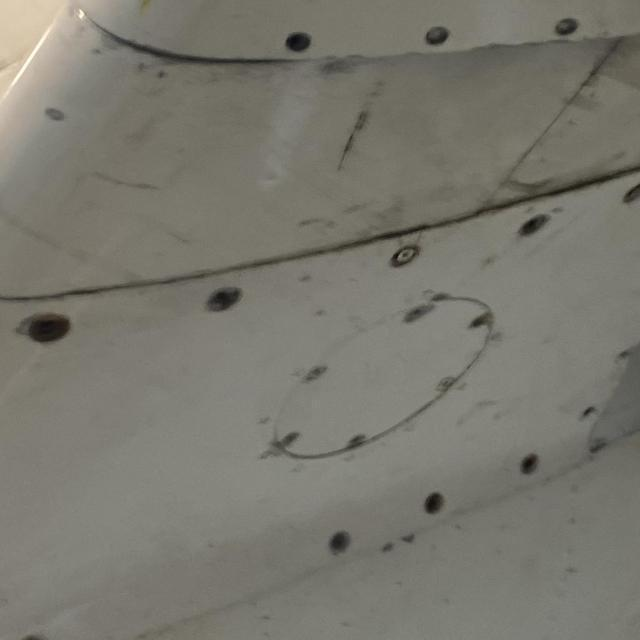Missing-head: (22, 313, 69, 344), (204, 287, 241, 312), (517, 215, 550, 236), (422, 24, 450, 46), (283, 31, 310, 52), (328, 532, 351, 556), (422, 493, 445, 515), (555, 16, 580, 36), (519, 454, 540, 475), (622, 181, 640, 204), (581, 407, 597, 419), (21, 637, 41, 640)
Paint-off: (41, 107, 63, 121)
